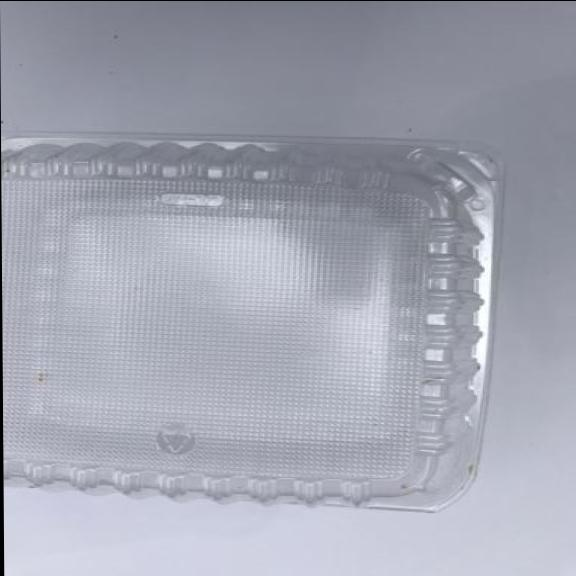Plastik: (1, 131, 505, 524)
